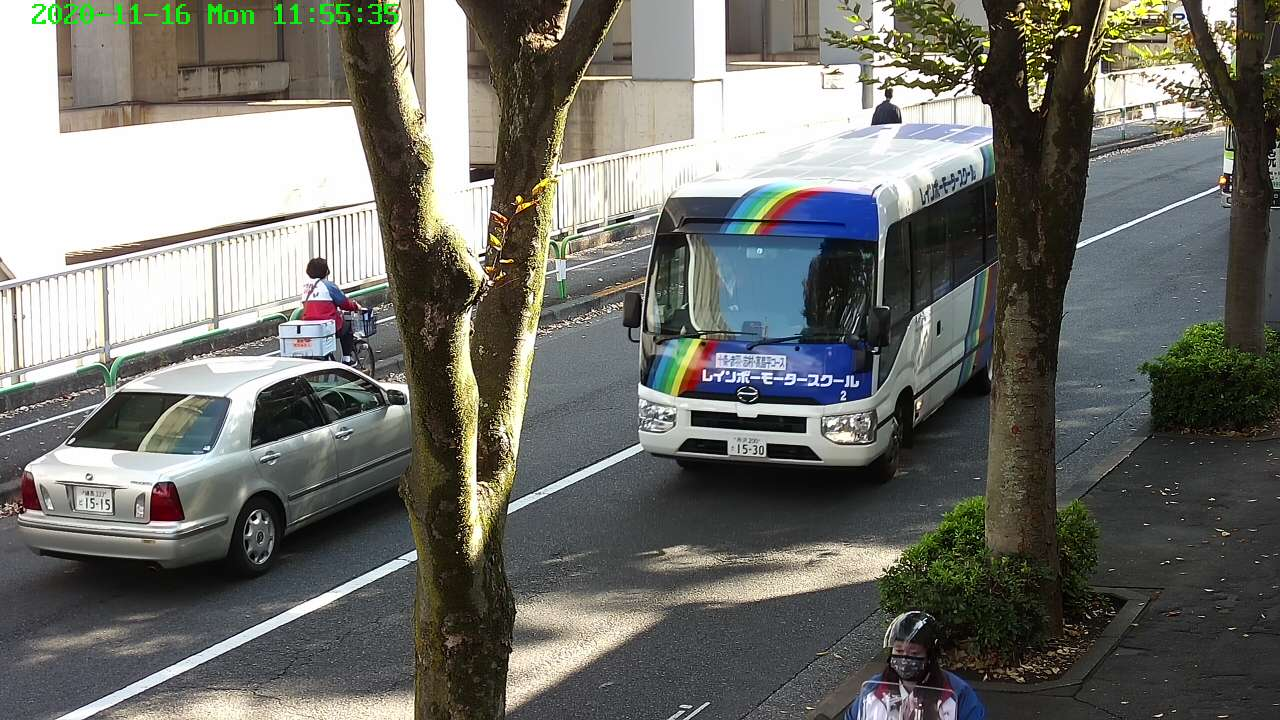number_plate: (69, 483, 116, 512), (727, 431, 768, 456)
